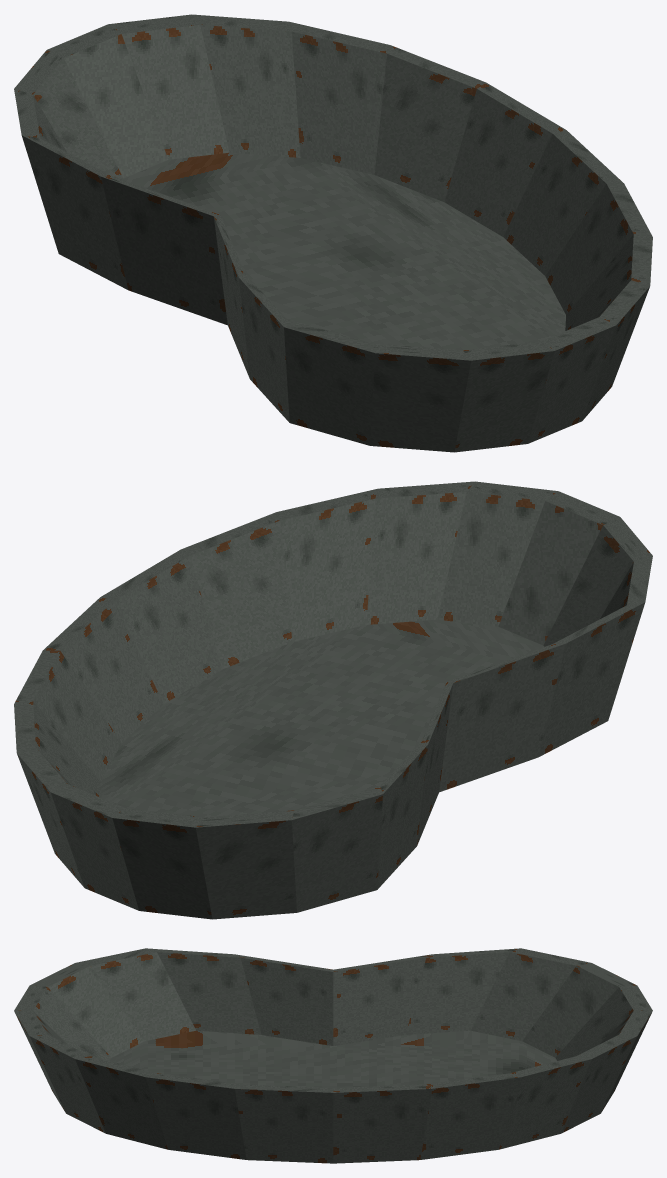
The model's file is kidney_dish.glb.
The picture shows the model from 3 angles, top to bottom: view 1: azimuth 30°, elevation 25°; view 2: azimuth 150°, elevation 25°; view 3: azimuth 270°, elevation 25°; orthographic projection. The views are drawn at different scales.
Parts seen in each view (by area): view 1: Kidney dish solid shell and rolled rim.002; view 2: Kidney dish solid shell and rolled rim.002; view 3: Kidney dish solid shell and rolled rim.002.
Boxes of the visible parts, x1,y1,x2,y2 form: Kidney dish solid shell and rolled rim.002: [14, 14, 652, 452]; Kidney dish solid shell and rolled rim.002: [14, 481, 652, 919]; Kidney dish solid shell and rolled rim.002: [14, 948, 652, 1163].
Bounding box in the file's own units: 0.1231 × 0.032 × 0.23.
Materials: 1 (1 with a texture image).
